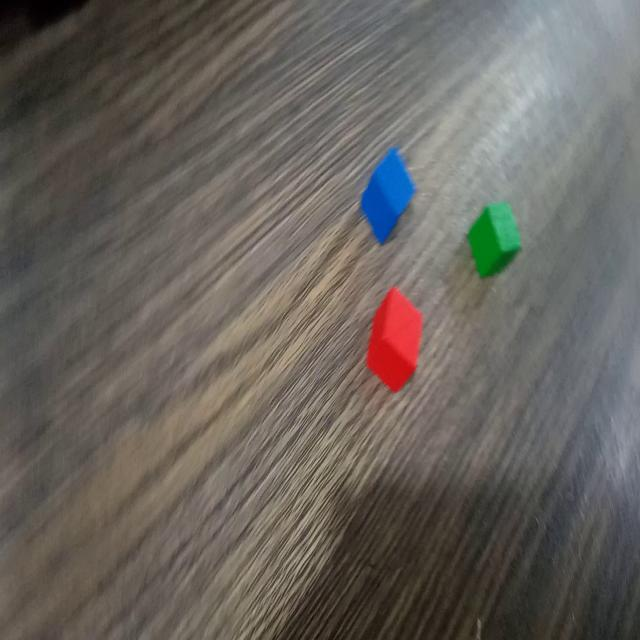cube: (364, 282, 425, 395), (358, 147, 419, 248), (468, 197, 523, 282)
